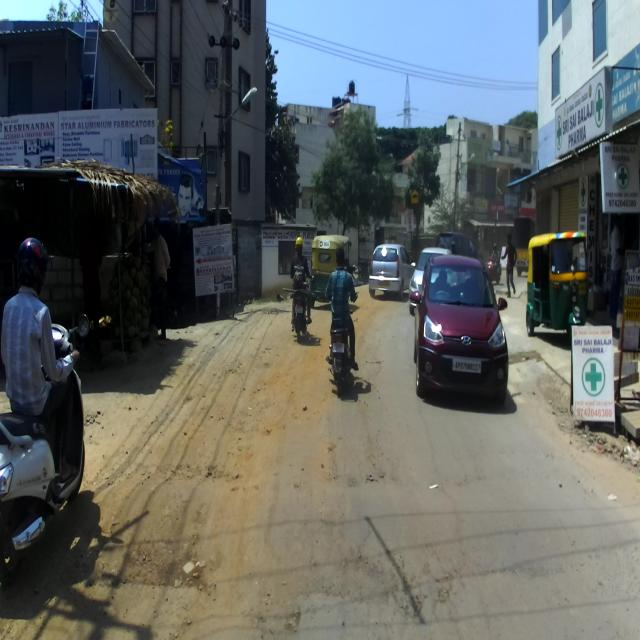car ahead at: (416, 246, 510, 411)
motorcycle ahead at: (0, 379, 83, 567), (325, 312, 359, 392)
